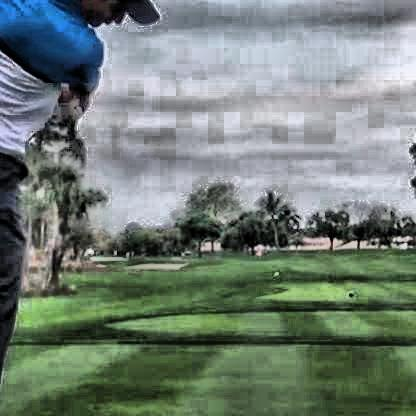golfball: (316, 209, 325, 215)
